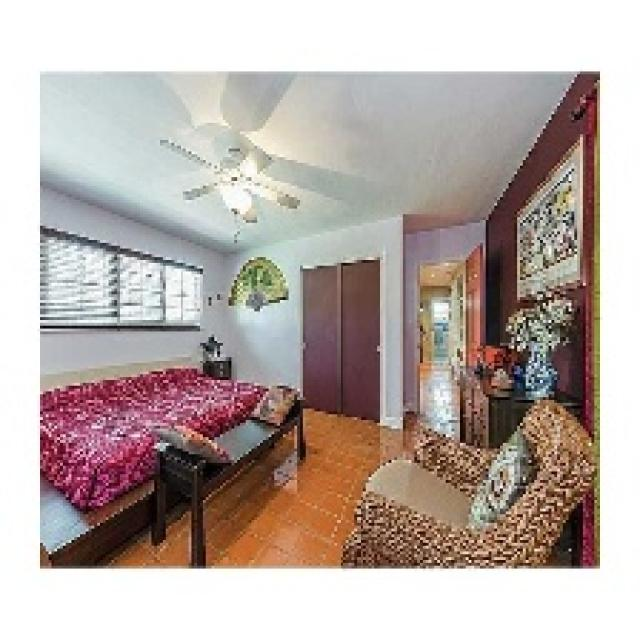Bed: (37, 357, 303, 566)
